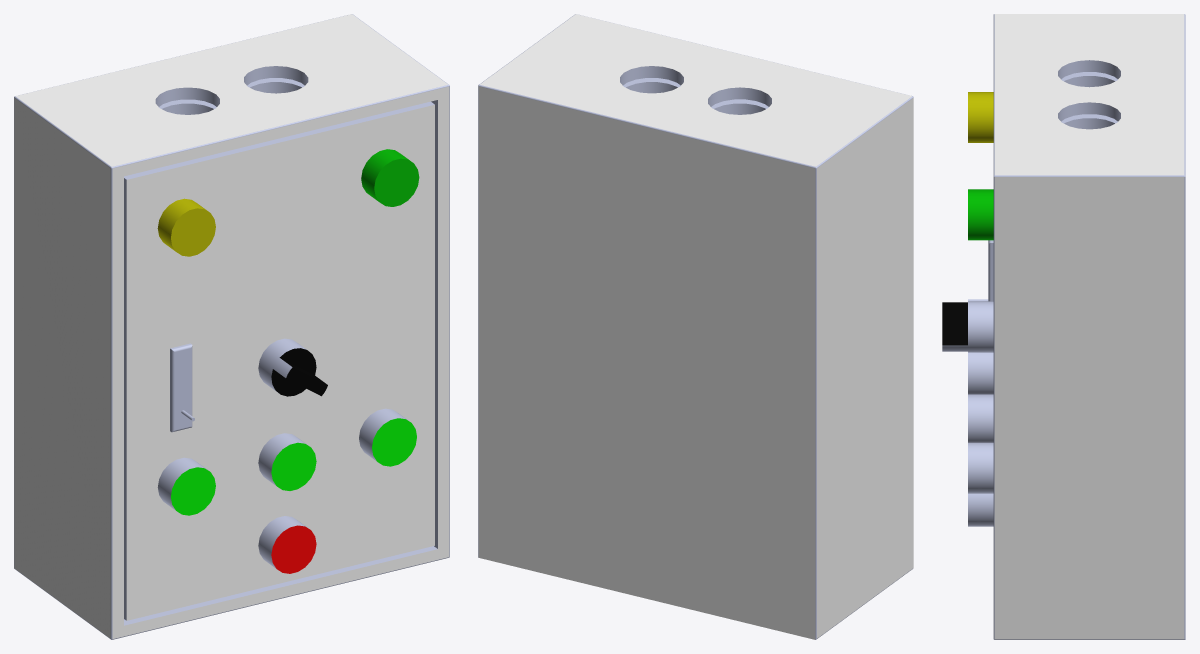
File: PanelPequeño.fbx
3 renders of one model, left to right at view 1: azimuth 30°, elevation 25°; view 2: azimuth 150°, elevation 25°; view 3: azimuth 270°, elevation 25°, orthographic.
Visible parts, largest first — view 1: Cut-Extrude4; view 2: Cut-Extrude4; view 3: Cut-Extrude4.
Part boxes in pixels (x1,y1,x2,y2): Cut-Extrude4: (14, 14, 449, 639); Cut-Extrude4: (478, 14, 913, 639); Cut-Extrude4: (942, 14, 1185, 639).
Bounding box in the file's own units: 11.81 × 15.75 × 7.48.
